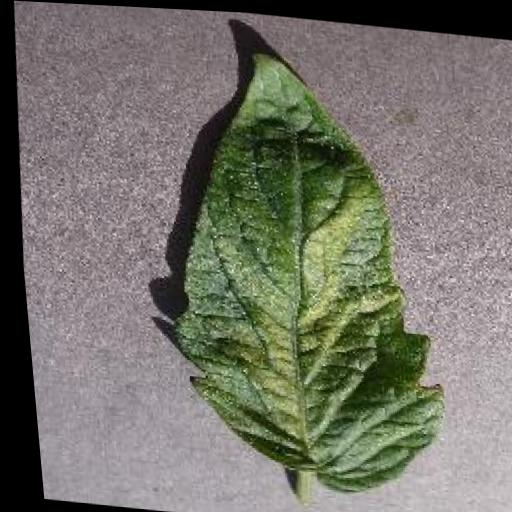Spider Mites: (142, 41, 461, 500)
